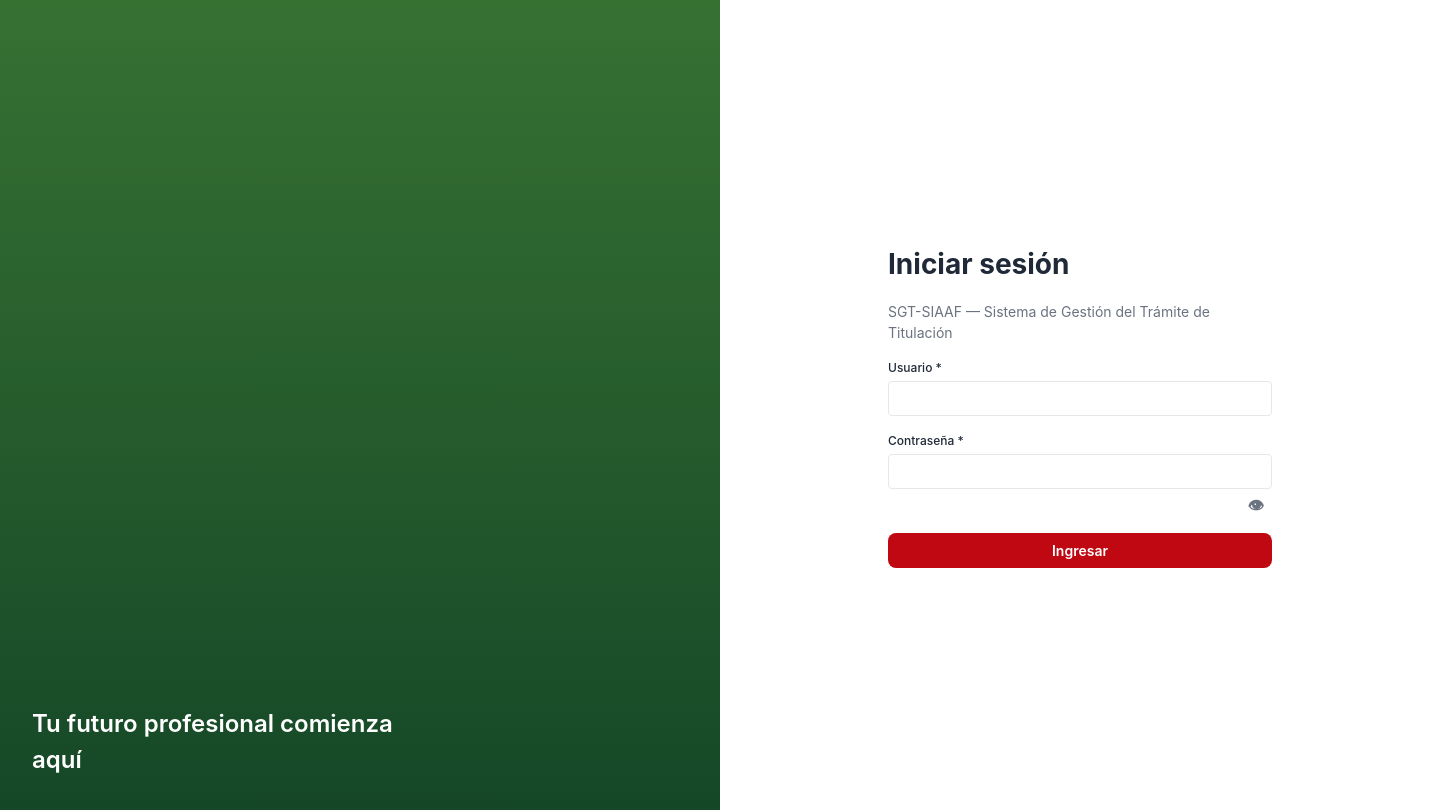
Test: LoginPage (V-01, integración real) › muestra un mensaje de acceso restringido ante un 403
Type "estudiante.demo" into the field labelled "Usuario *" at (1080, 398), box [888, 380, 1272, 416]
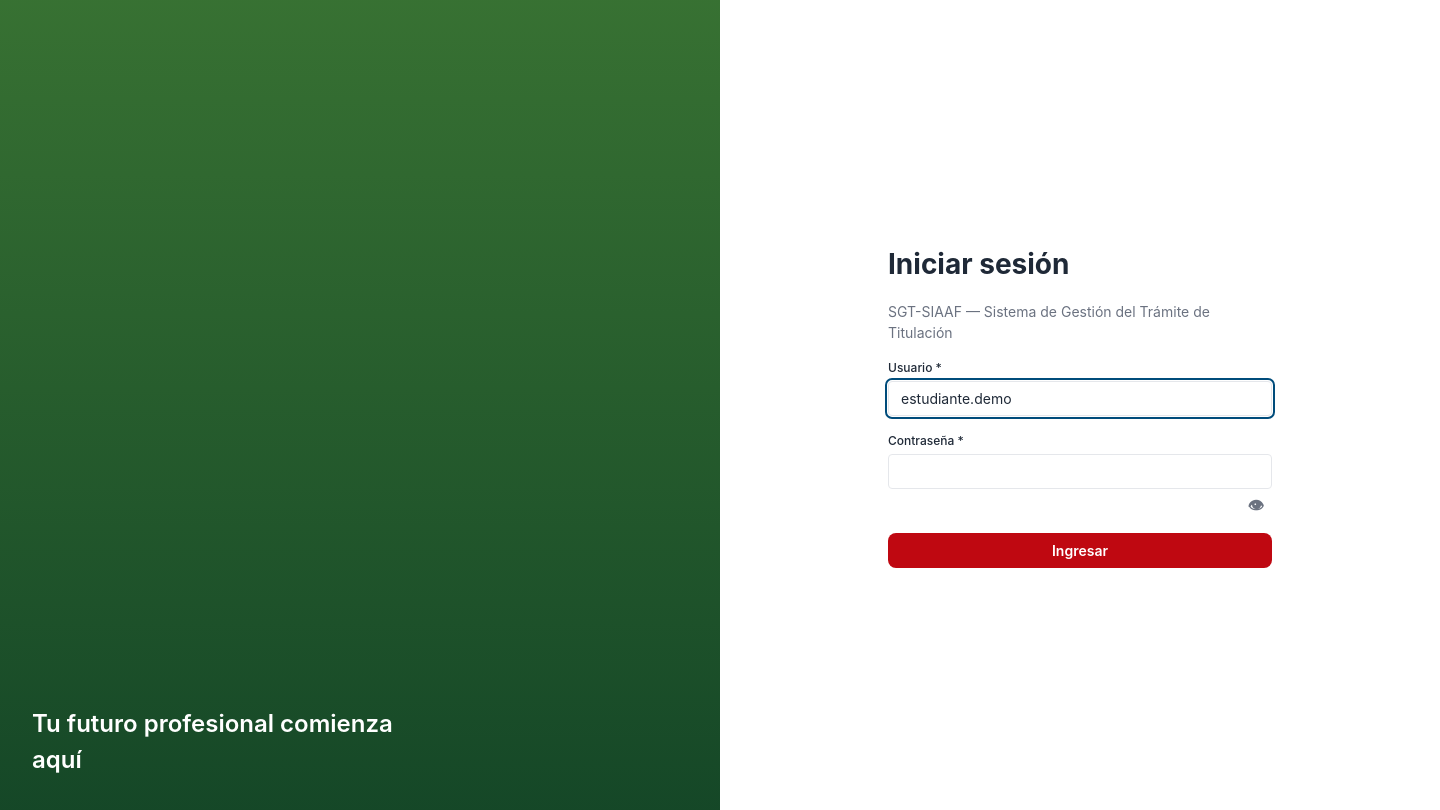
Type "demo-valida" into the password field labelled "Contraseña *" at (1080, 471), box [888, 454, 1272, 488]
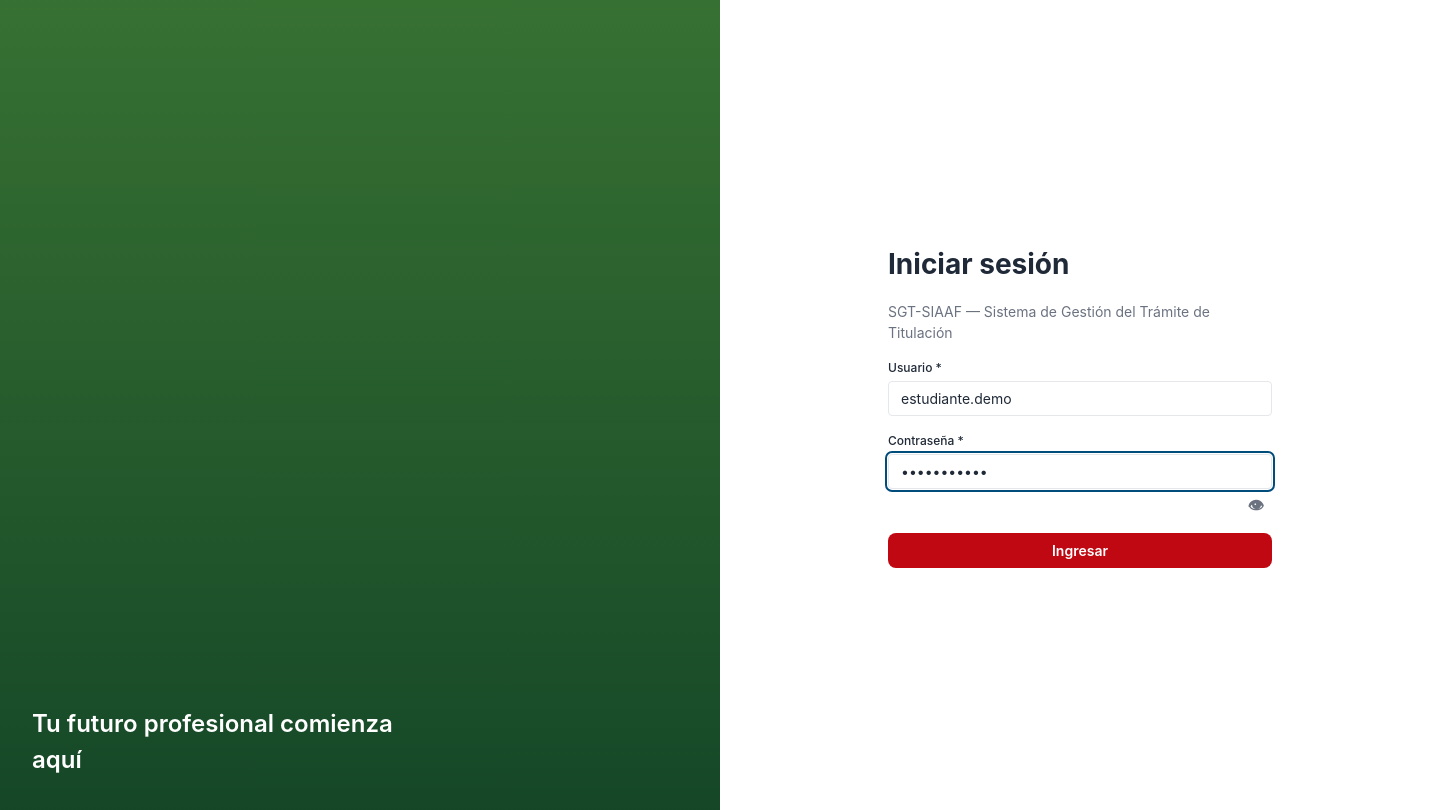
Click the button "Ingresar" at (1080, 550), box [888, 532, 1272, 568]
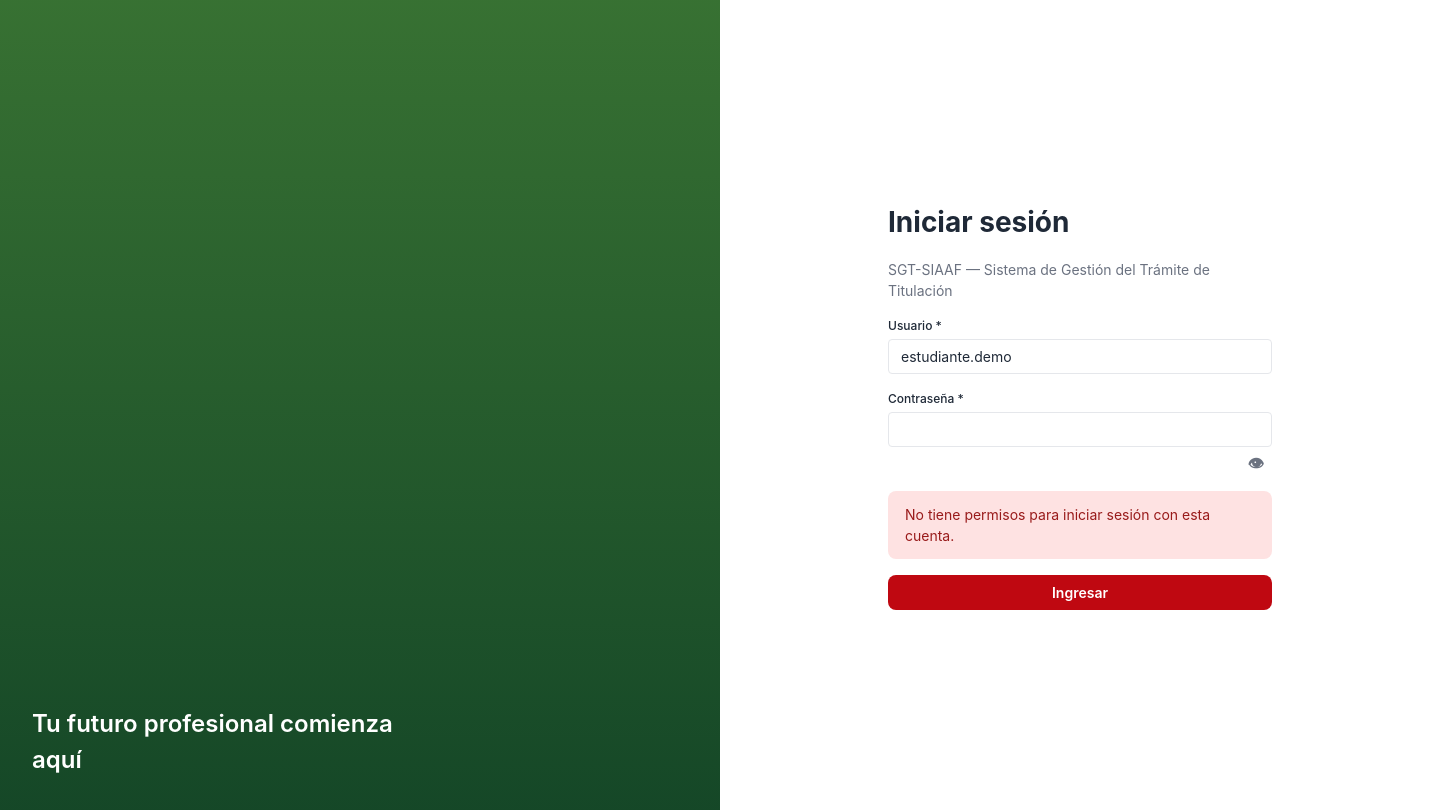
expect the message reads "No tiene permisos para iniciar sesión con esta cuenta.": met, box [905, 506, 1210, 544]
